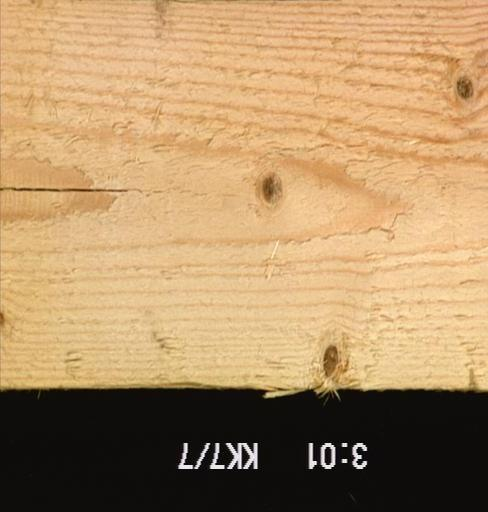dry_knot: (322, 343, 340, 377)
sound_knot: (259, 169, 284, 206), (454, 75, 475, 100)
split: (0, 184, 129, 193)
